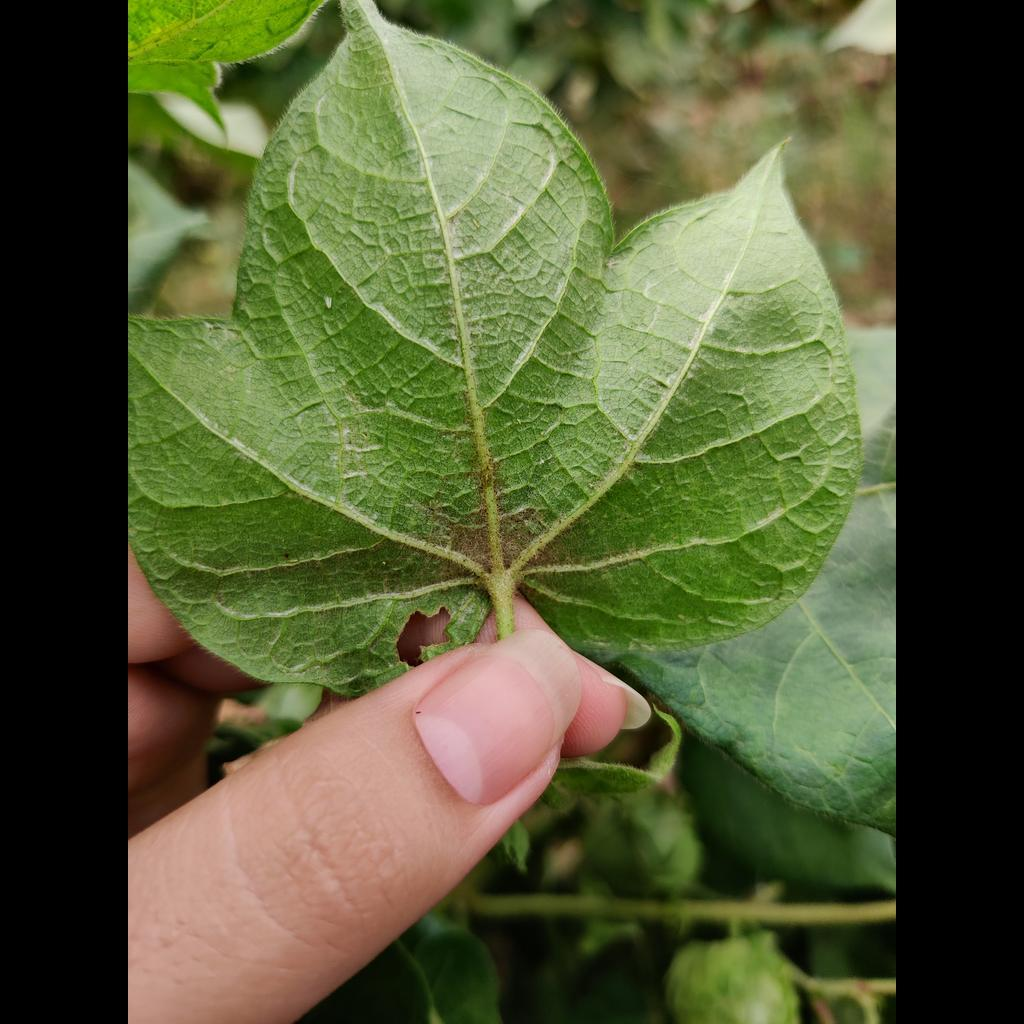adult: (325, 296, 332, 309)
